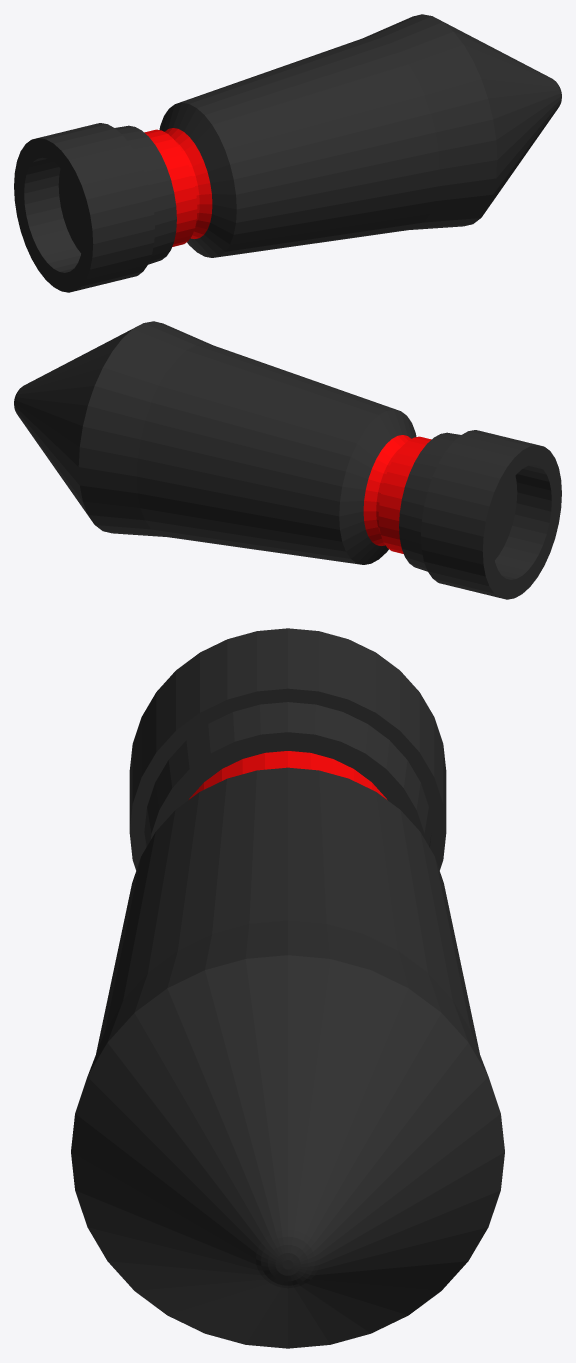
The model's file is Missile.fbx.
3 views of the same model, one above another, from view 1: azimuth 30°, elevation 25°; view 2: azimuth 150°, elevation 25°; view 3: azimuth 270°, elevation 25° (orthographic). The views are drawn at different scales.
Parts seen in each view (by area): view 1: Cylinder; view 2: Cylinder; view 3: Cylinder.
Part boxes in pixels (x1=…): Cylinder: x1=14, y1=14, x2=561, y2=292; Cylinder: x1=14, y1=321, x2=561, y2=599; Cylinder: x1=71, y1=628, x2=504, y2=1348.
Size of the model in its own units: 733 by 273 by 273.
